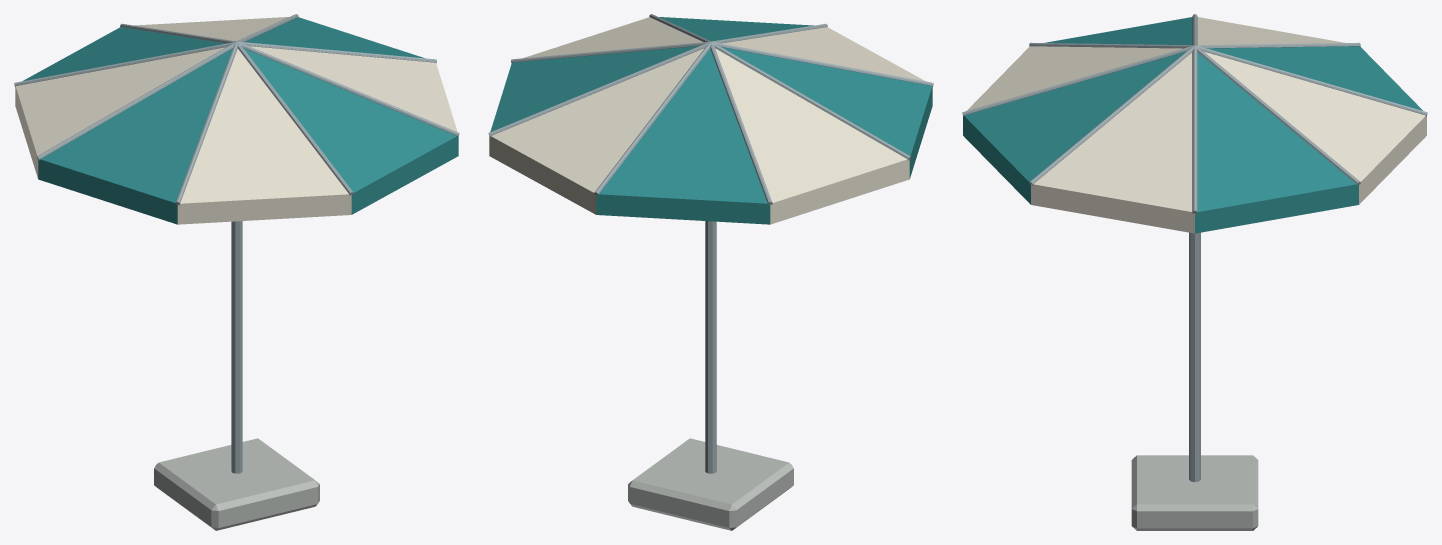
File: Cafe_Umbrella_Stand.glb
3 views of the same model, side by side, from view 1: azimuth 30°, elevation 25°; view 2: azimuth 150°, elevation 25°; view 3: azimuth 270°, elevation 25° (orthographic).
Visible parts, largest first — view 1: Cafe_Umbrella_Stand; view 2: Cafe_Umbrella_Stand; view 3: Cafe_Umbrella_Stand.
Part boxes in pixels (x1,y1,x2,y2): Cafe_Umbrella_Stand: (14, 14, 459, 530); Cafe_Umbrella_Stand: (488, 14, 933, 530); Cafe_Umbrella_Stand: (962, 14, 1427, 530).
Bounding box in the file's own units: 2.21 × 2.41 × 2.21.
